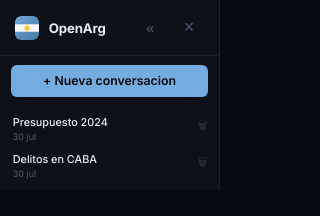
it: ConversationSidebar — borrado › usa el texto del backend cuando el fallo no es por límite
Expected: the text "Presupuesto 2024" is shown, [13, 116, 108, 129]
Click the button named "Eliminar conversacion": (203, 127) [192, 116, 214, 138]
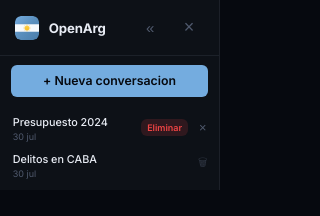
Click the button with aria-label "Confirmar eliminacion": (165, 127) [141, 118, 188, 136]
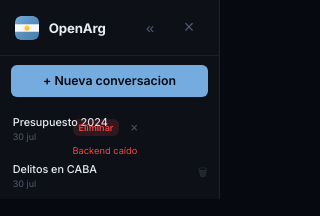
Expected: the text "Presupuesto 2024" is shown, [13, 116, 108, 129]
Expected: the text "Backend caído" is shown, [72, 145, 137, 156]
